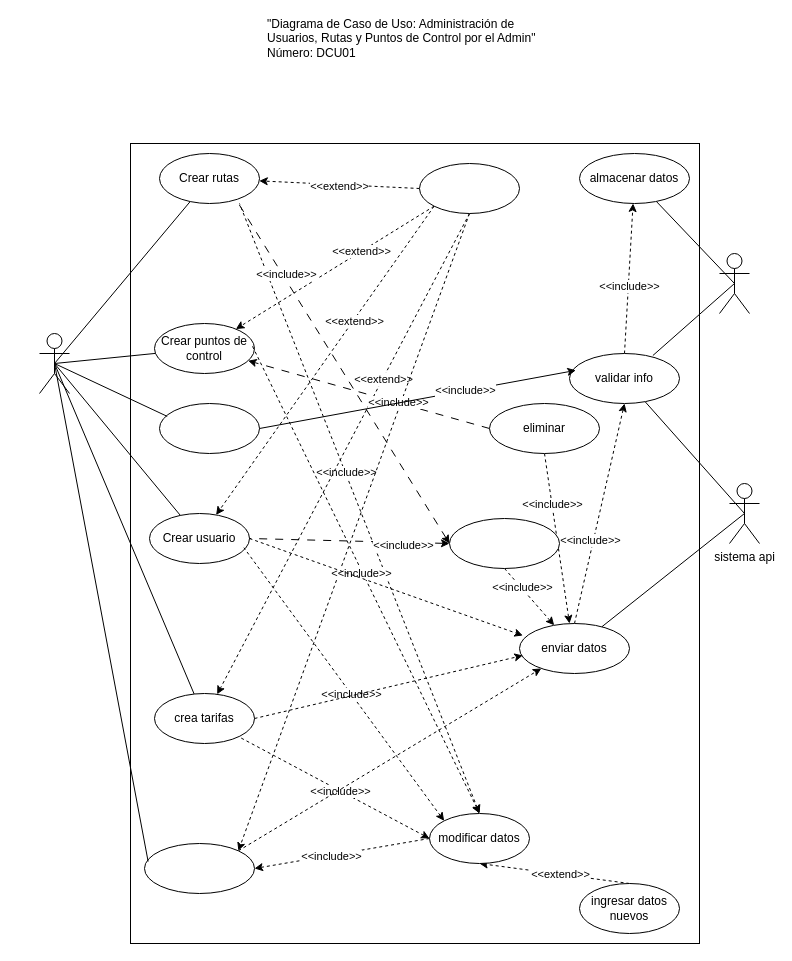
This 792x961 diagram has some shape labels left out. The shapes that lost their labels are listed below. From the top down, each one's centre as x and y in pixels, then its label:
At (x=469, y=188): "ingresa datos".
At (x=734, y=283): "sistema DB".
At (x=54, y=363): "usuario admin".
At (x=209, y=428): "iniciar sesion".
At (x=504, y=543): "desactivar".
At (x=199, y=868): "crear destino".
